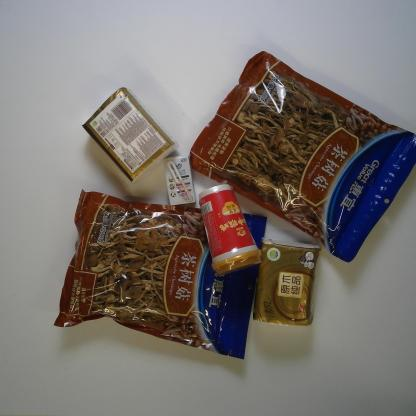Dried Food: (187, 49, 416, 263), (53, 188, 269, 362)
Instant Drink: (198, 184, 264, 276)
Milk: (162, 154, 197, 207)
Tissue: (82, 86, 179, 184), (253, 235, 323, 330)
